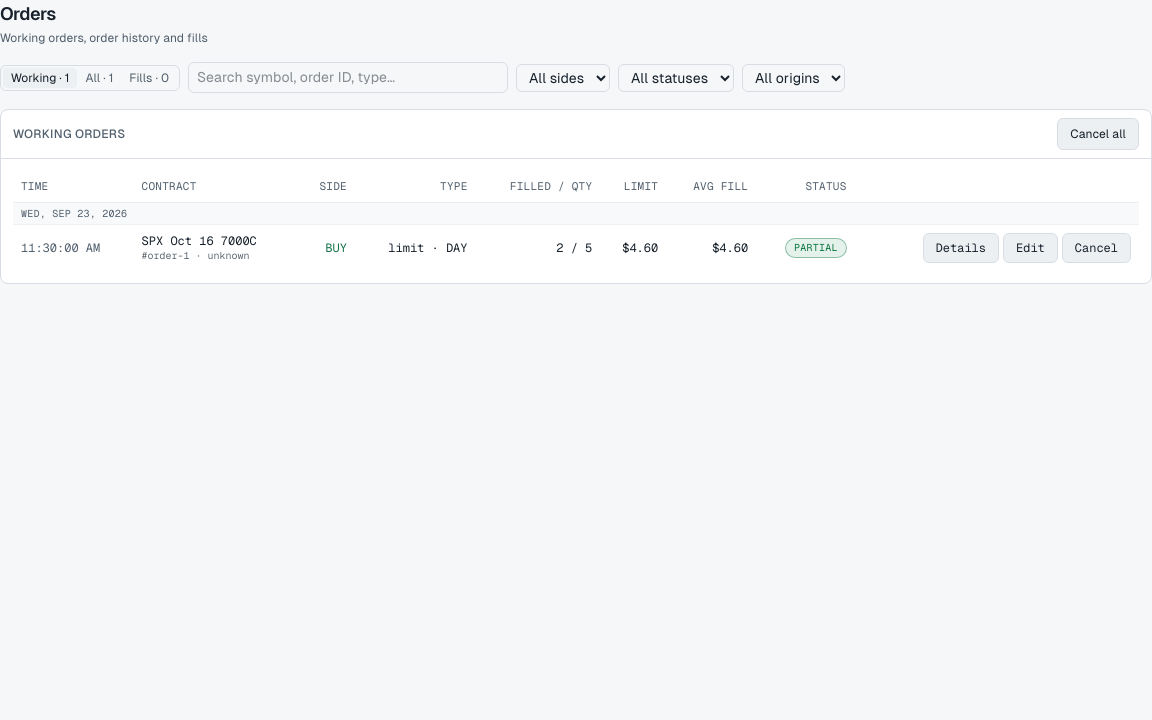
Test: confirms before cancelling and keeps the last result on empty Working (all: false)
The image size is (1152, 720).
Click the button "Cancel": (1096, 248) top-left (1062, 233), bottom-right (1131, 263)
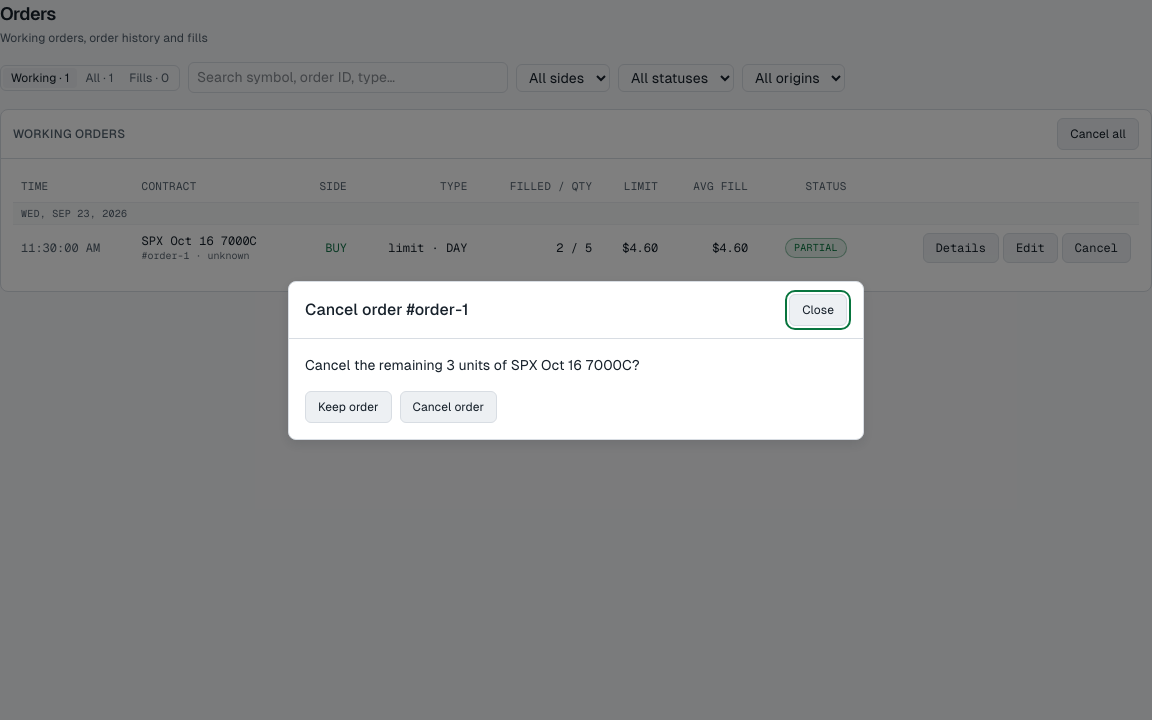
Check: the dialog is shown, box top-left (288, 280), bottom-right (864, 440)
Check: the button "Keep order" is shown
Click the button "Keep order": (348, 406) top-left (305, 390), bottom-right (392, 422)
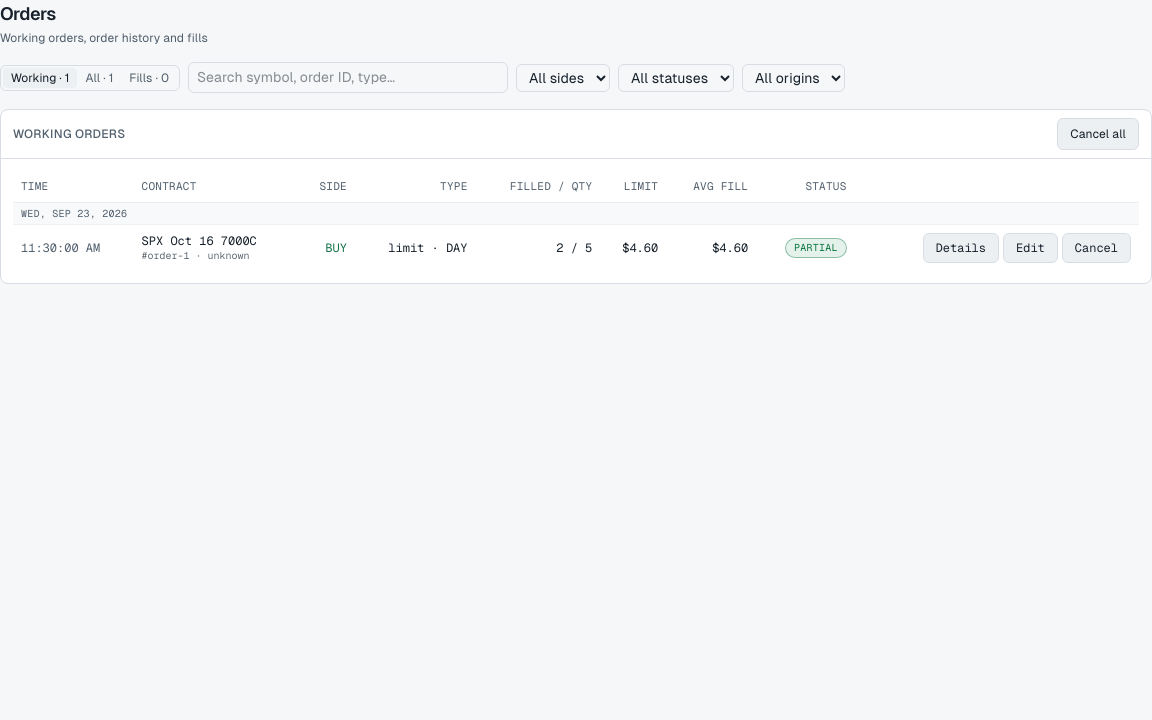
Click the button "Cancel": (1096, 248) top-left (1062, 233), bottom-right (1131, 263)
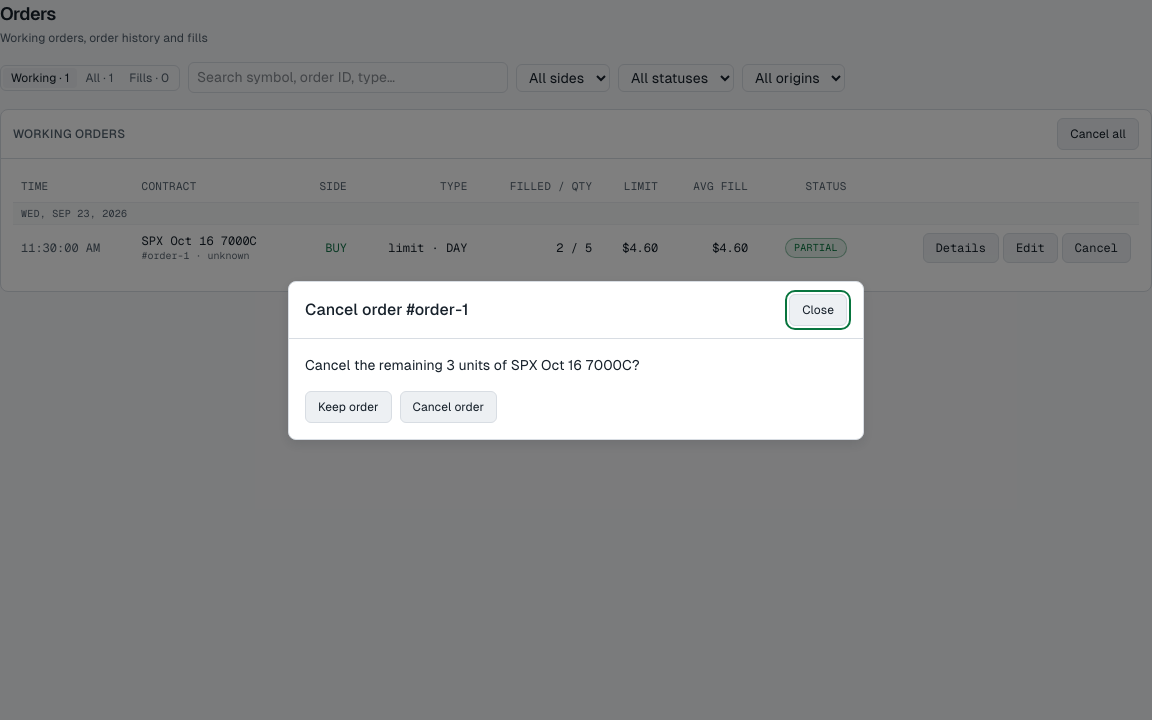
Check: the button "Cancel order" is shown
Click the button "Cancel order": (448, 406) top-left (400, 390), bottom-right (497, 422)
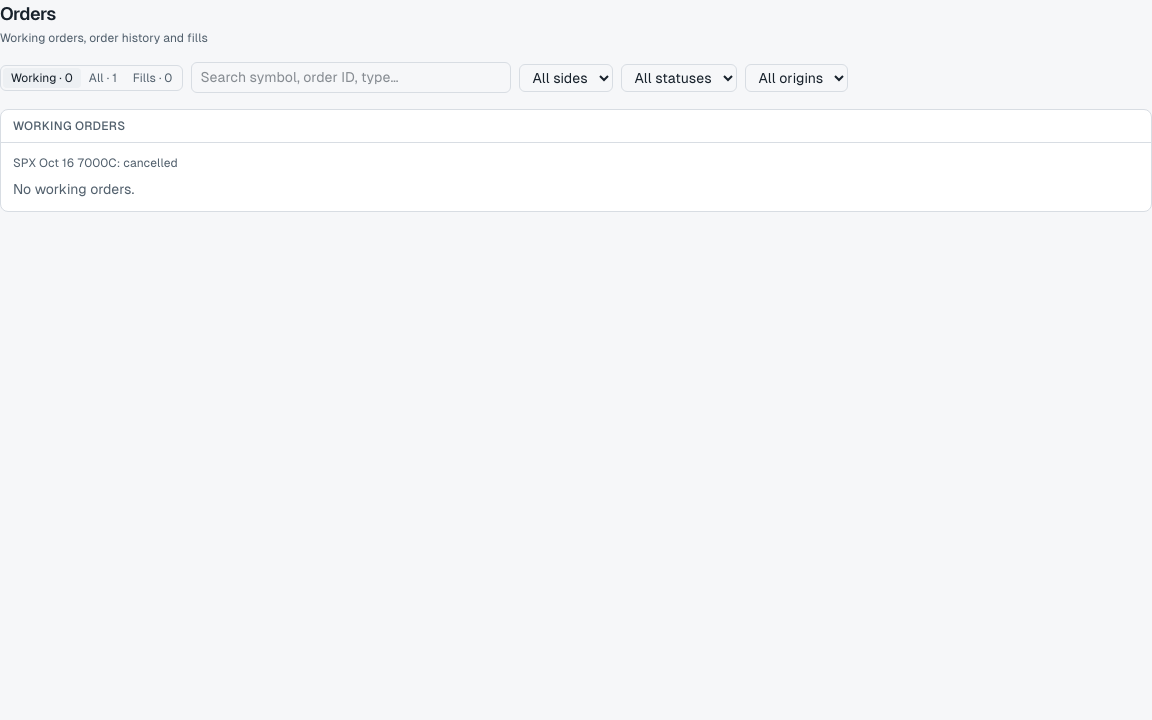
Check: the text "No working orders." is shown, box top-left (13, 181), bottom-right (134, 197)
Check: the message "SPX Oct 16 7000C: cancelled" is shown, box top-left (13, 156), bottom-right (178, 170)
Check: the dialog is gone
